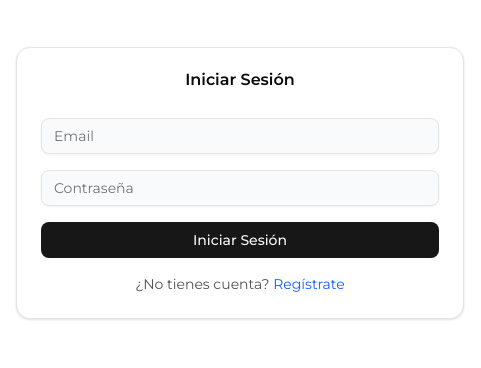
it: LoginForm › should clear error message when form is resubmitted
Note: First submission with error
Type "test@example.com" into the field with placeholder "Email" at x=240, y=136, box [41,118,439,154]
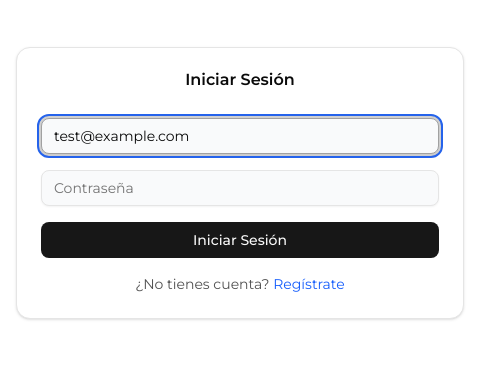
Type "wrongpassword" into the password field with placeholder "Contraseña" at x=240, y=188, box [41,170,439,206]
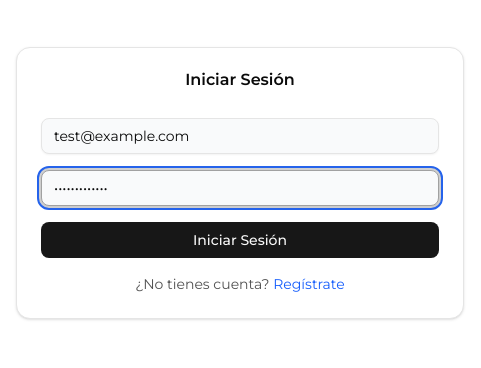
Click the button "Iniciar Sesión" at x=240, y=240, box [41,222,439,258]
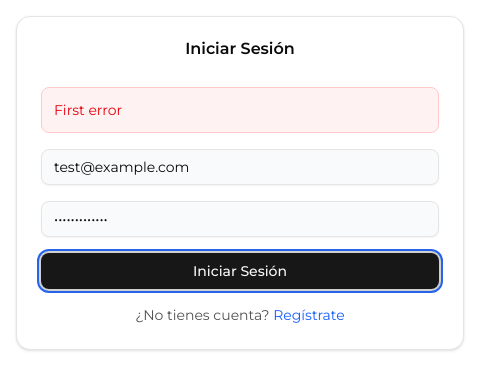
expect the text "First error" is shown: met, box [41,87,439,133]
Note: Second submission should clear error
Click the button "Iniciar Sesión" at x=240, y=271, box [41,253,439,289]
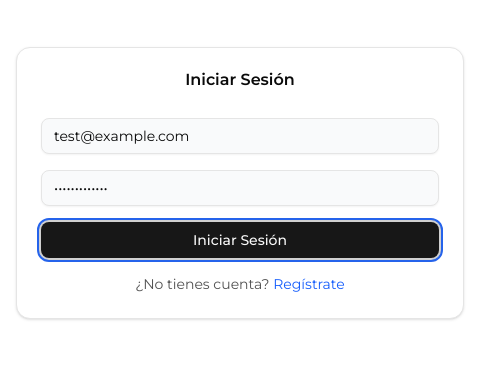
expect the text "First error" is gone: met
